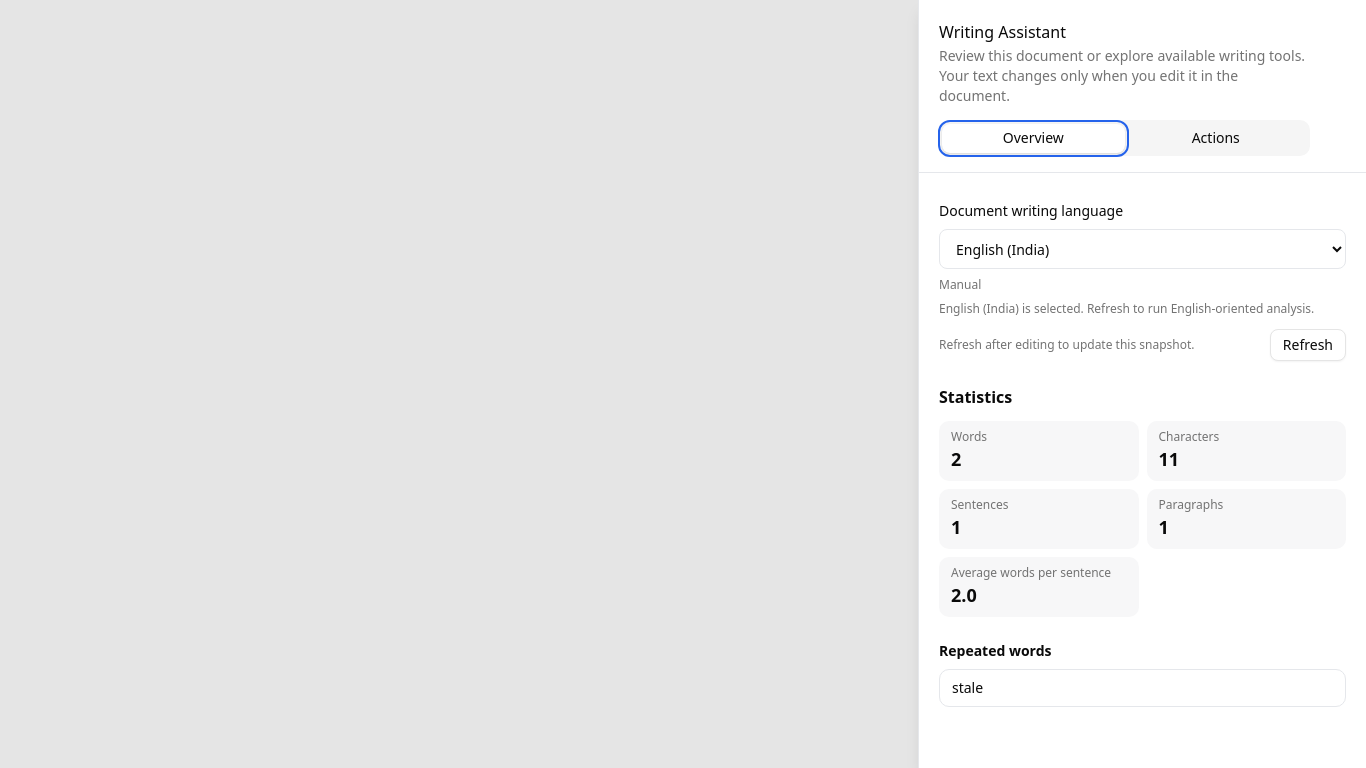
Scenario: WritingAssistantPanel › keeps only the latest repeated refresh request and ignores stale responses
Click the button "Refresh" at (1308, 345), box [1270,329,1346,361]
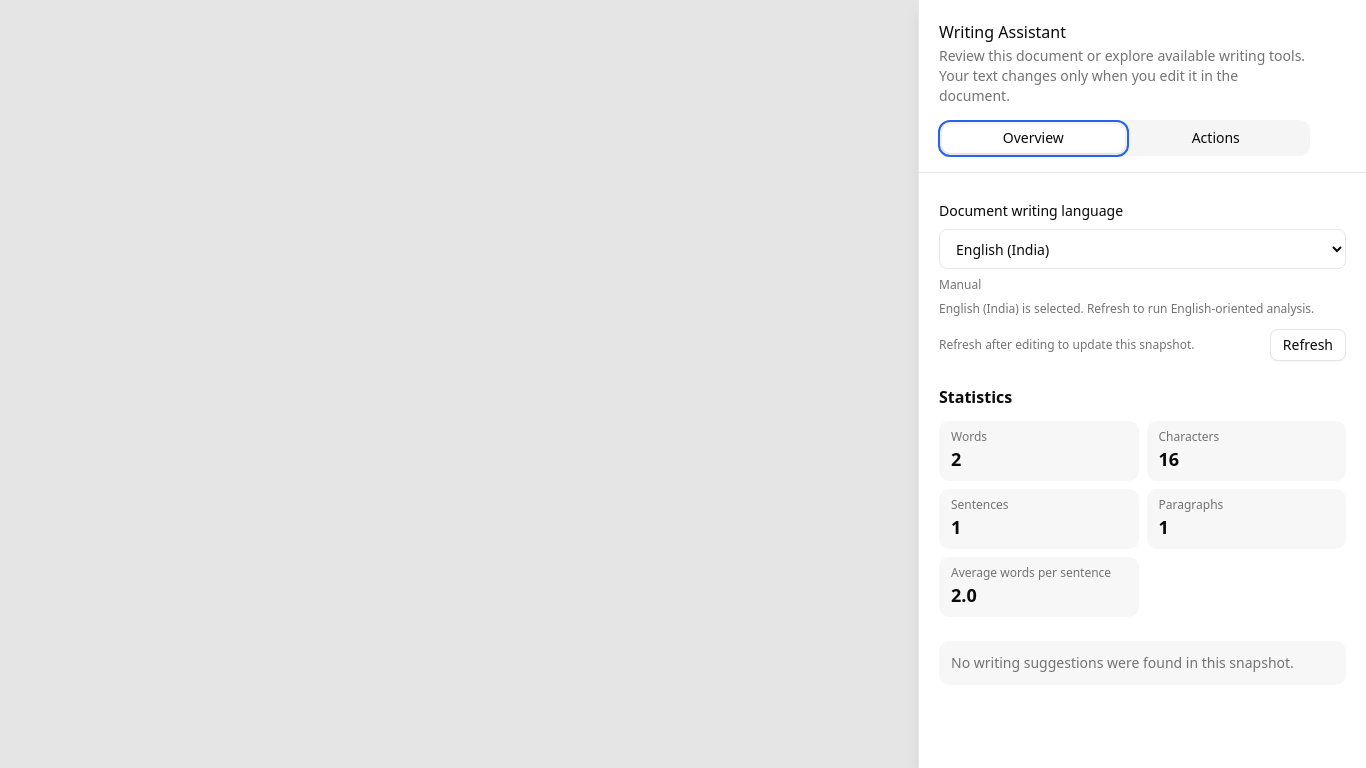
Expected: the heading "Repeated words" is gone
Expected: the text "No writing suggestions were found in this snapshot." is shown, [939,641,1346,685]
